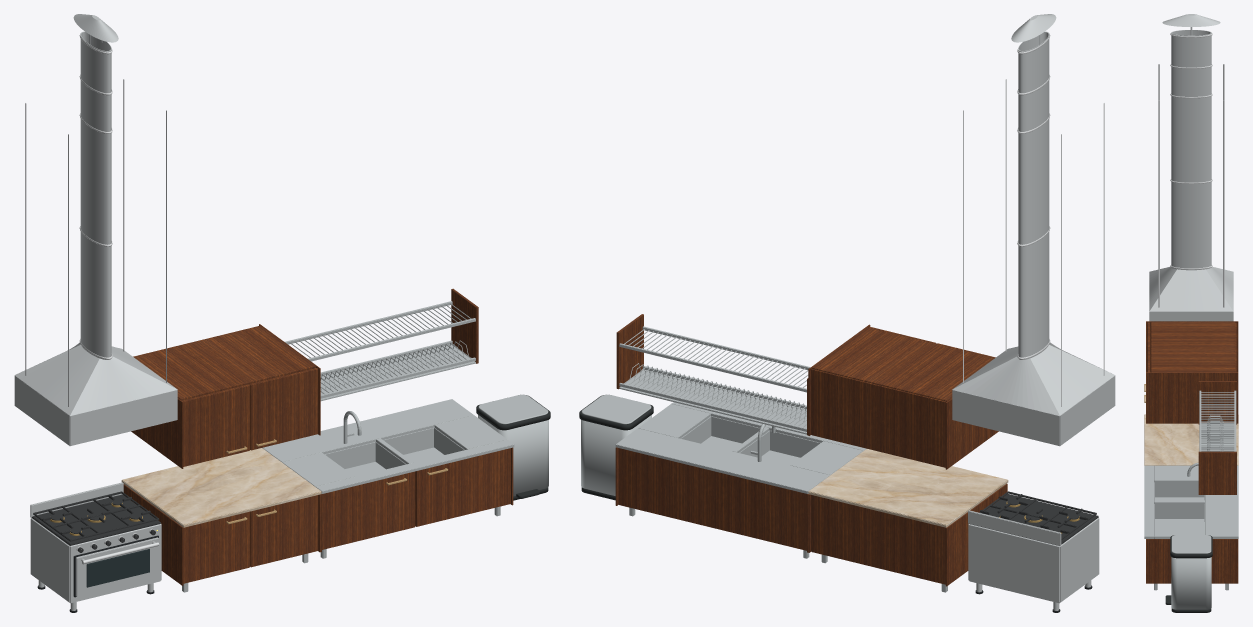
Rendered from CabinetPanelGroup.glb.
The picture shows the model from 3 angles, left to right: view 1: azimuth 30°, elevation 25°; view 2: azimuth 150°, elevation 25°; view 3: azimuth 270°, elevation 25°; orthographic projection. The views are drawn at different scales.
Visible parts, largest first — view 1: CanopyTransitionAndDuct, Kitchen_North_01_Cab03_Base_Worktop.001, Kitchen_North_01_Cab03_Upper_Cap.001, Kitchen_North_01_Wash_Base_Right_Front.001, Kitchen_North_01_Wash_Base_Left_Front.001, Lid insert.001, Kitchen_North_01_Cab03_Upper_Right_Front.001, Kitchen_North_01_Cab03_Upper_Left_Front.001, Kitchen_North_01_Wash_Base_RearDeck.001, OvenChassis, Kitchen_North_01_Cab03_Base_Right_Front.001, Kitchen_North_01_Cab03_Base_Left_Front.001 (+17 smaller); view 2: CanopyTransitionAndDuct, Kitchen_North_01_Wash_Base_Back.001, Kitchen_North_01_Cab03_Upper_Back.001, Kitchen_North_01_Cab03_Base_Worktop.001, Kitchen_North_01_Cab03_Base_Back.001, OvenChassis, Kitchen_North_01_Cab03_Upper_Cap.001, Kitchen_North_01_Wash_Base_RearDeck.001, Lid insert.001, Kitchen_North_01_Wash_Upper_DripTray.001, CanopyFascia.001, HobWell (+13 smaller); view 3: CanopyTransitionAndDuct, Kitchen_North_01_Cab03_Upper_Cap.001, Lid insert.001, Kitchen_North_01_Cab03_Upper_End_R.001, Kitchen_North_01_Cab03_Base_Worktop.001, Kitchen_North_01_Wash_Base_End_R.001, Kitchen_North_01_Wash_Upper_RackEnd.003, Kitchen_North_01_Wash_Base_RearDeck.001, Kitchen_North_01_Wash_Upper_RackEnd.002, CanopyEnd.001, Kitchen_North_01_Wash_Base_FrontDeck.001, Kitchen_North_01_Wash_Base_Drainboard.003 (+12 smaller).
Boxes of the visible parts, x1,y1,x2,y2 form: CanopyTransitionAndDuct: [15, 31, 177, 415]; Kitchen_North_01_Cab03_Base_Worktop.001: [121, 448, 321, 527]; Kitchen_North_01_Cab03_Upper_Cap.001: [133, 325, 315, 400]; Kitchen_North_01_Wash_Base_Right_Front.001: [415, 448, 510, 526]; Kitchen_North_01_Wash_Base_Left_Front.001: [322, 471, 415, 549]; Lid insert.001: [476, 394, 550, 500]; Kitchen_North_01_Cab03_Upper_Right_Front.001: [249, 368, 318, 450]; Kitchen_North_01_Cab03_Upper_Left_Front.001: [182, 384, 249, 466]; Kitchen_North_01_Wash_Base_RearDeck.001: [262, 399, 473, 462]; OvenChassis: [30, 518, 161, 603]; Kitchen_North_01_Cab03_Base_Right_Front.001: [250, 495, 318, 567]; Kitchen_North_01_Cab03_Base_Left_Front.001: [183, 511, 249, 583]; CanopyTransitionAndDuct: [952, 31, 1114, 415]; Kitchen_North_01_Wash_Base_Back.001: [618, 448, 806, 550]; Kitchen_North_01_Cab03_Upper_Back.001: [811, 369, 946, 467]; Kitchen_North_01_Cab03_Base_Worktop.001: [808, 449, 1008, 527]; Kitchen_North_01_Cab03_Base_Back.001: [811, 495, 945, 584]; OvenChassis: [968, 517, 1099, 603]; Kitchen_North_01_Cab03_Upper_Cap.001: [812, 327, 994, 401]; Kitchen_North_01_Wash_Base_RearDeck.001: [615, 428, 829, 493]; Lid insert.001: [579, 394, 653, 500]; Kitchen_North_01_Wash_Upper_DripTray.001: [619, 370, 806, 434]; CanopyFascia.001: [952, 389, 1061, 446]; HobWell: [970, 494, 1098, 545]; CanopyTransitionAndDuct: [1149, 30, 1233, 311]; Kitchen_North_01_Cab03_Upper_Cap.001: [1151, 322, 1235, 372]; Lid insert.001: [1165, 535, 1212, 612]; Kitchen_North_01_Cab03_Upper_End_R.001: [1146, 372, 1238, 423]; Kitchen_North_01_Cab03_Base_Worktop.001: [1144, 414, 1238, 465]; Kitchen_North_01_Wash_Base_End_R.001: [1146, 539, 1238, 583]; Kitchen_North_01_Wash_Upper_RackEnd.003: [1198, 451, 1236, 494]; Kitchen_North_01_Wash_Base_RearDeck.001: [1205, 465, 1238, 538]; Kitchen_North_01_Wash_Upper_RackEnd.002: [1198, 381, 1236, 424]; CanopyEnd.001: [1151, 311, 1231, 321]; Kitchen_North_01_Wash_Base_FrontDeck.001: [1144, 465, 1154, 538]; Kitchen_North_01_Wash_Base_Drainboard.003: [1154, 465, 1198, 482].
Size of what is drawn, in the model's own units: 6.46 by 7.1 by 1.4.
15 materials, 2 textured.
